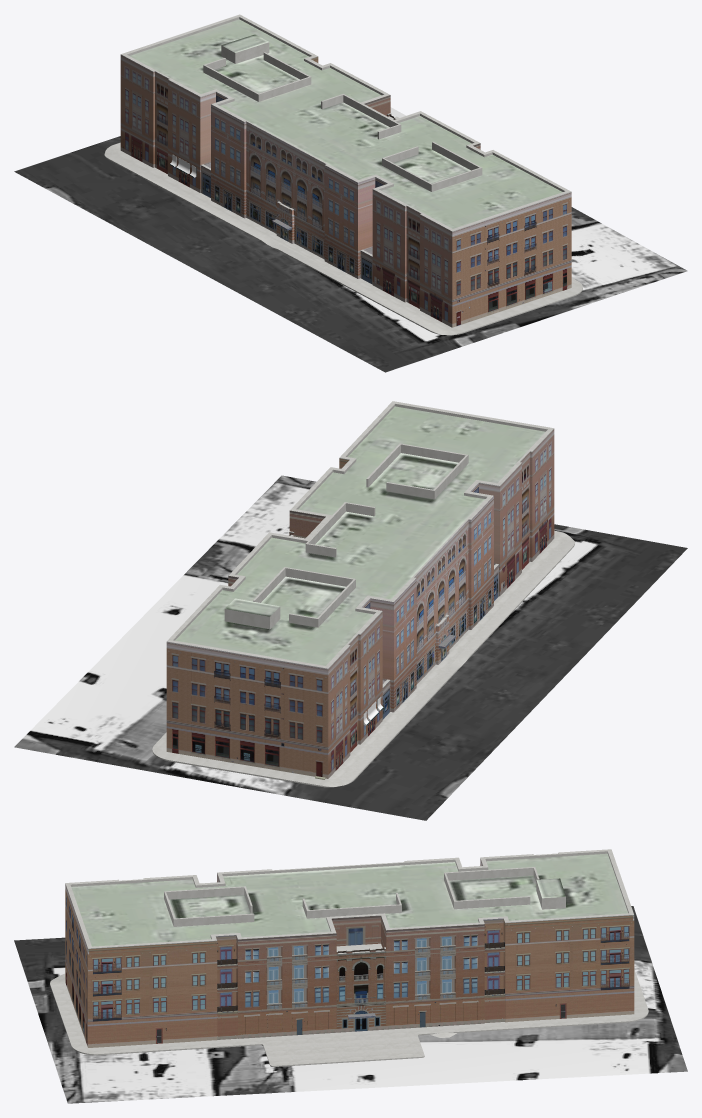
File: 9701_FriscoTownCenter_Building2.fbx
3 views of the same model, one above another, from view 1: azimuth 30°, elevation 25°; view 2: azimuth 150°, elevation 25°; view 3: azimuth 270°, elevation 25° (orthographic). The views are drawn at different scales.
Visible parts, largest first — view 1: Group3, Group29, Group28; view 2: Group3, Group29, Group28; view 3: Group3, Group29, Group28.
Part boxes in pixels (left/top/right/bottom): Group3: left=120, top=14, right=571, bottom=327; Group29: left=14, top=107, right=687, bottom=372; Group28: left=104, top=142, right=582, bottom=335; Group3: left=166, top=401, right=554, bottom=779; Group29: left=14, top=475, right=687, bottom=820; Group28: left=152, top=530, right=574, bottom=787; Group3: left=65, top=849, right=634, bottom=1047; Group29: left=14, top=906, right=687, bottom=1103; Group28: left=50, top=969, right=648, bottom=1066.
Size of the model in its own units: 3006 by 792 by 4248.
